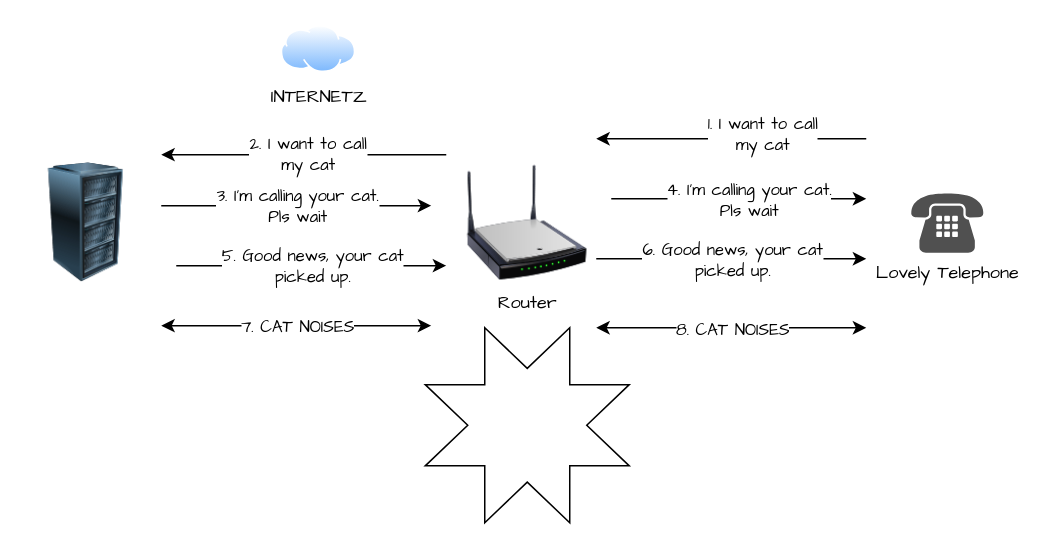
The diagram is 1044 pixels wide and 549 high, and some of its shapes have lost their labels. The centre of each missing label's shape, as x and y in pixels:
"NAT address rewriting Magic!" belongs at point 526,424.
"Voip provider" belongs at point 86,222.
